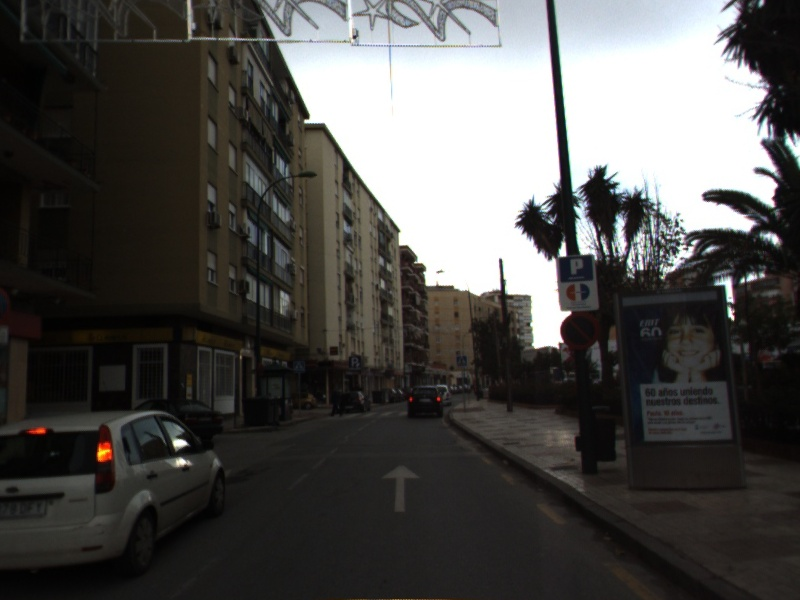STRAIGHT: (379, 462, 422, 514)
